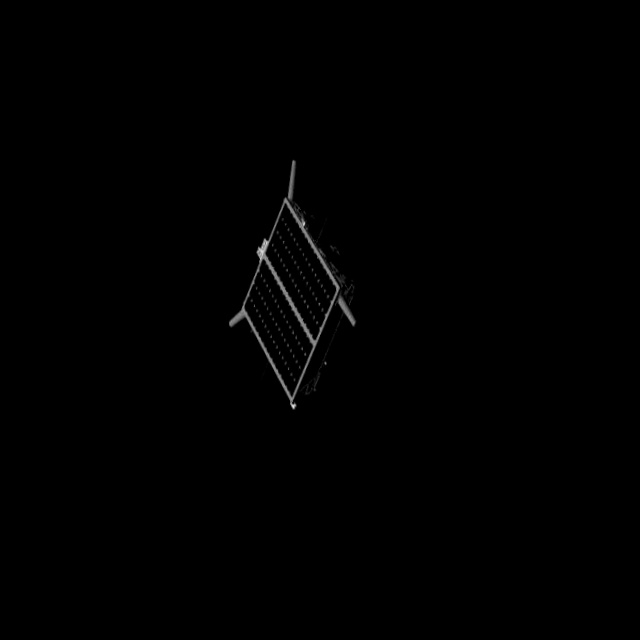satellite: (209, 146, 364, 422)
